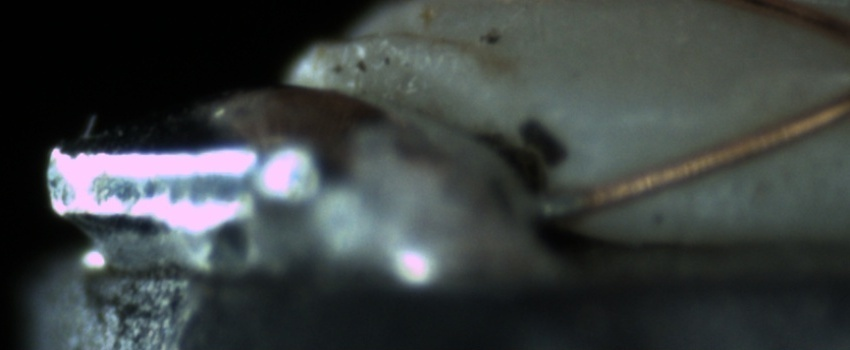DL: (596, 95, 738, 154)
TS: (536, 193, 585, 225)
